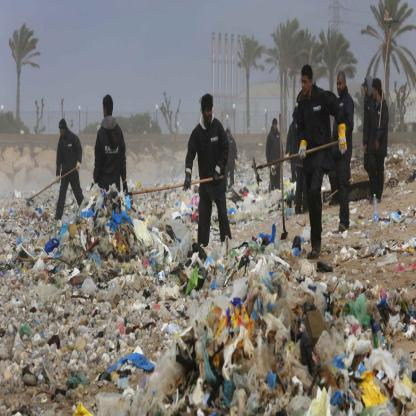Garbage: (1, 229, 416, 416)
